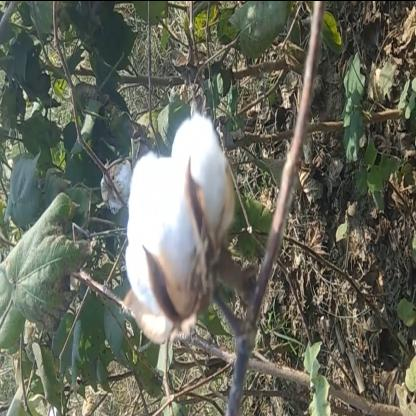cotton_ready: (119, 93, 254, 349)
